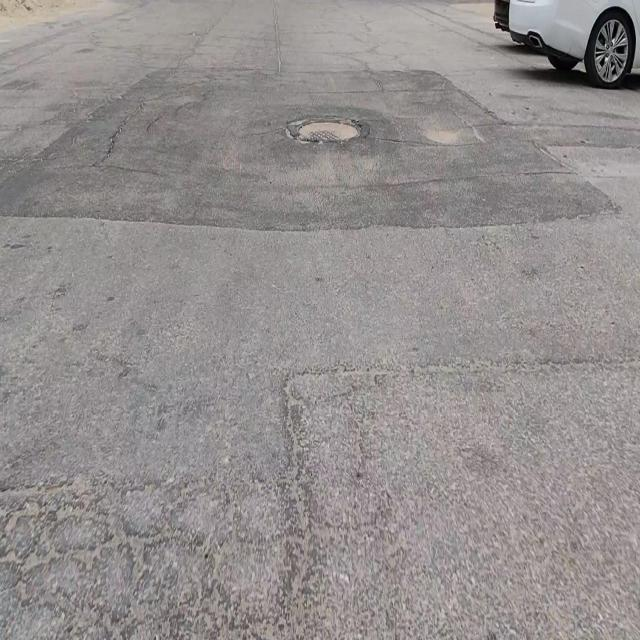Potholes: (289, 120, 364, 144)
